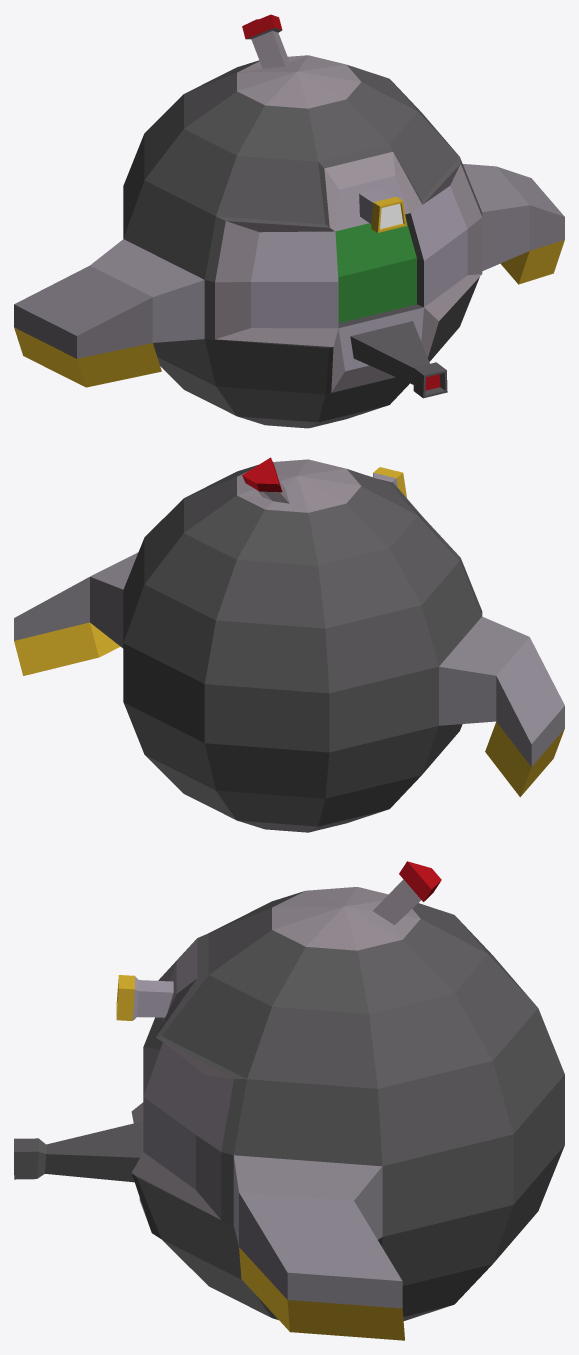
Rendered from Robots.fbx.
The picture shows the model from 3 angles, top to bottom: view 1: azimuth 30°, elevation 25°; view 2: azimuth 150°, elevation 25°; view 3: azimuth 270°, elevation 25°; orthographic projection. The views are drawn at different scales.
Visible parts, largest first — view 1: robo-glaz; view 2: robo-glaz; view 3: robo-glaz.
Part boxes in pixels (x1,y1,x2,y2): robo-glaz: (14, 14, 564, 428); robo-glaz: (14, 457, 564, 832); robo-glaz: (14, 861, 564, 1340).
Size of the model in its own units: 139 by 96.89 by 107.
